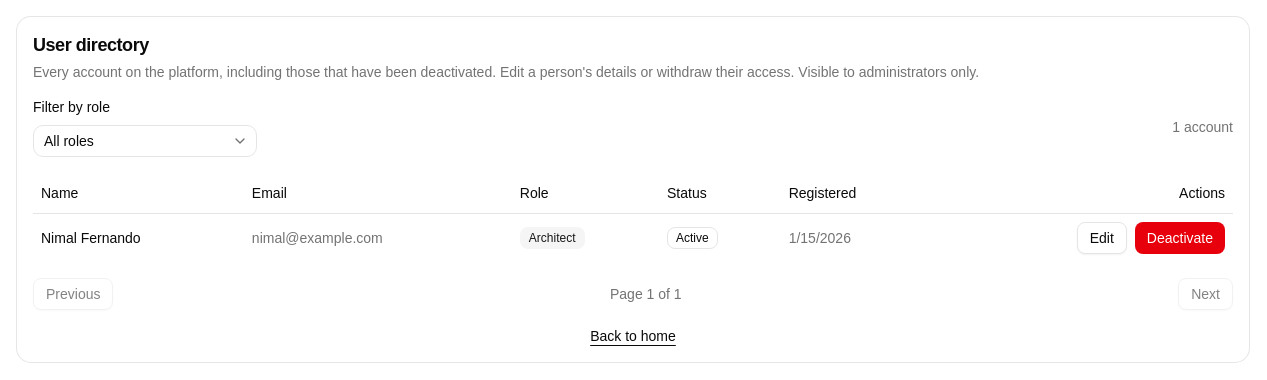
Test: AdminUsersPage › filtering by role › says so when no account holds the chosen role
Expected: the text "Nimal Fernando" is shown, [33, 213, 244, 262]
Step 1. Click the dropdown named "Filter by role" → point(145, 141), box [33, 125, 257, 157]
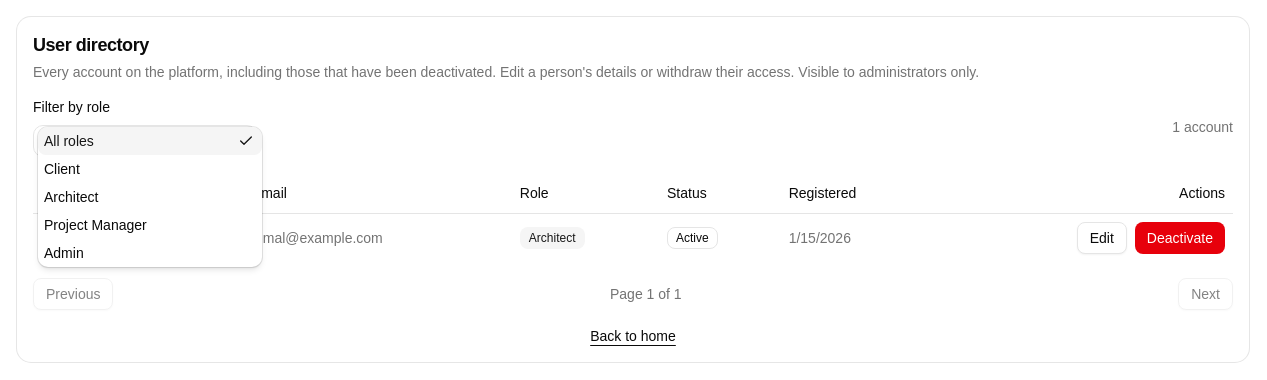
Step 2. Click the option "Project Manager" → point(95, 225), box [44, 217, 147, 233]
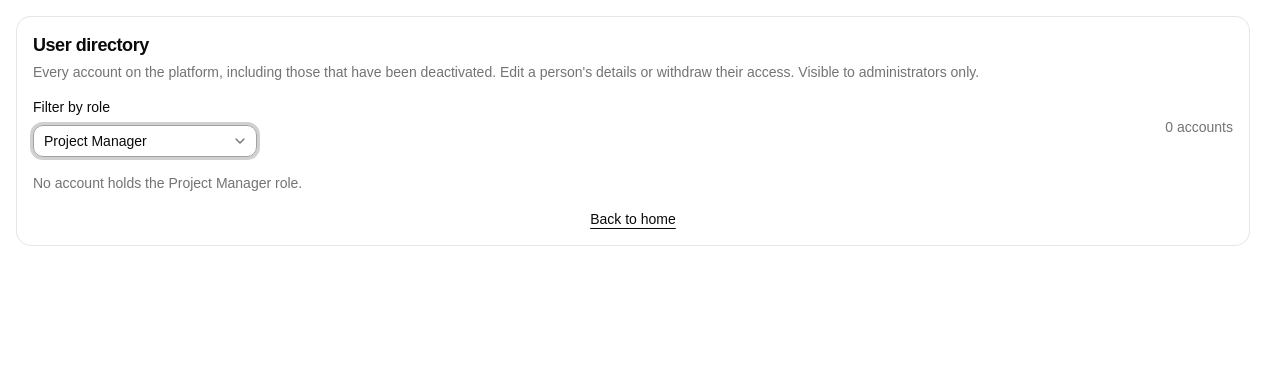
Result: the text "No account holds the Project Manager role." is shown at [33, 175, 302, 191]
